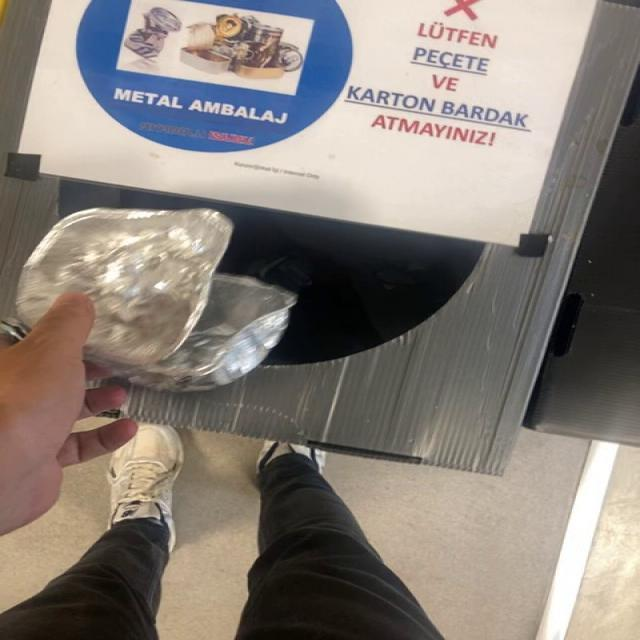Metal: (16, 208, 297, 392)
